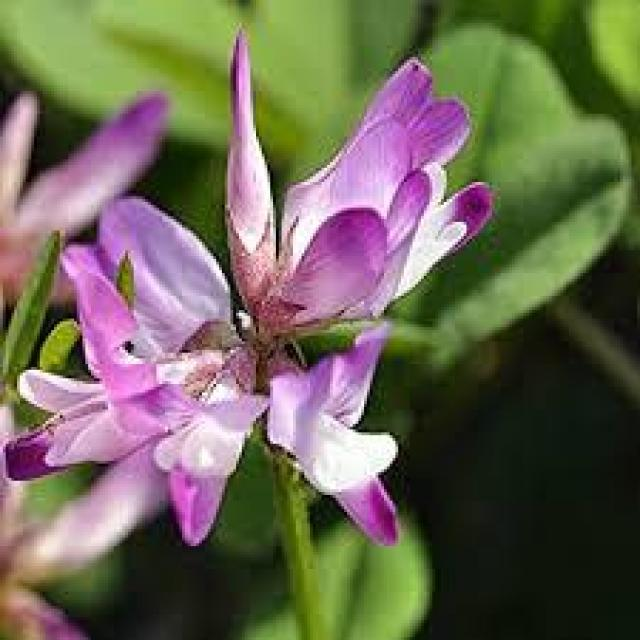organic waste: (34, 38, 492, 550)
